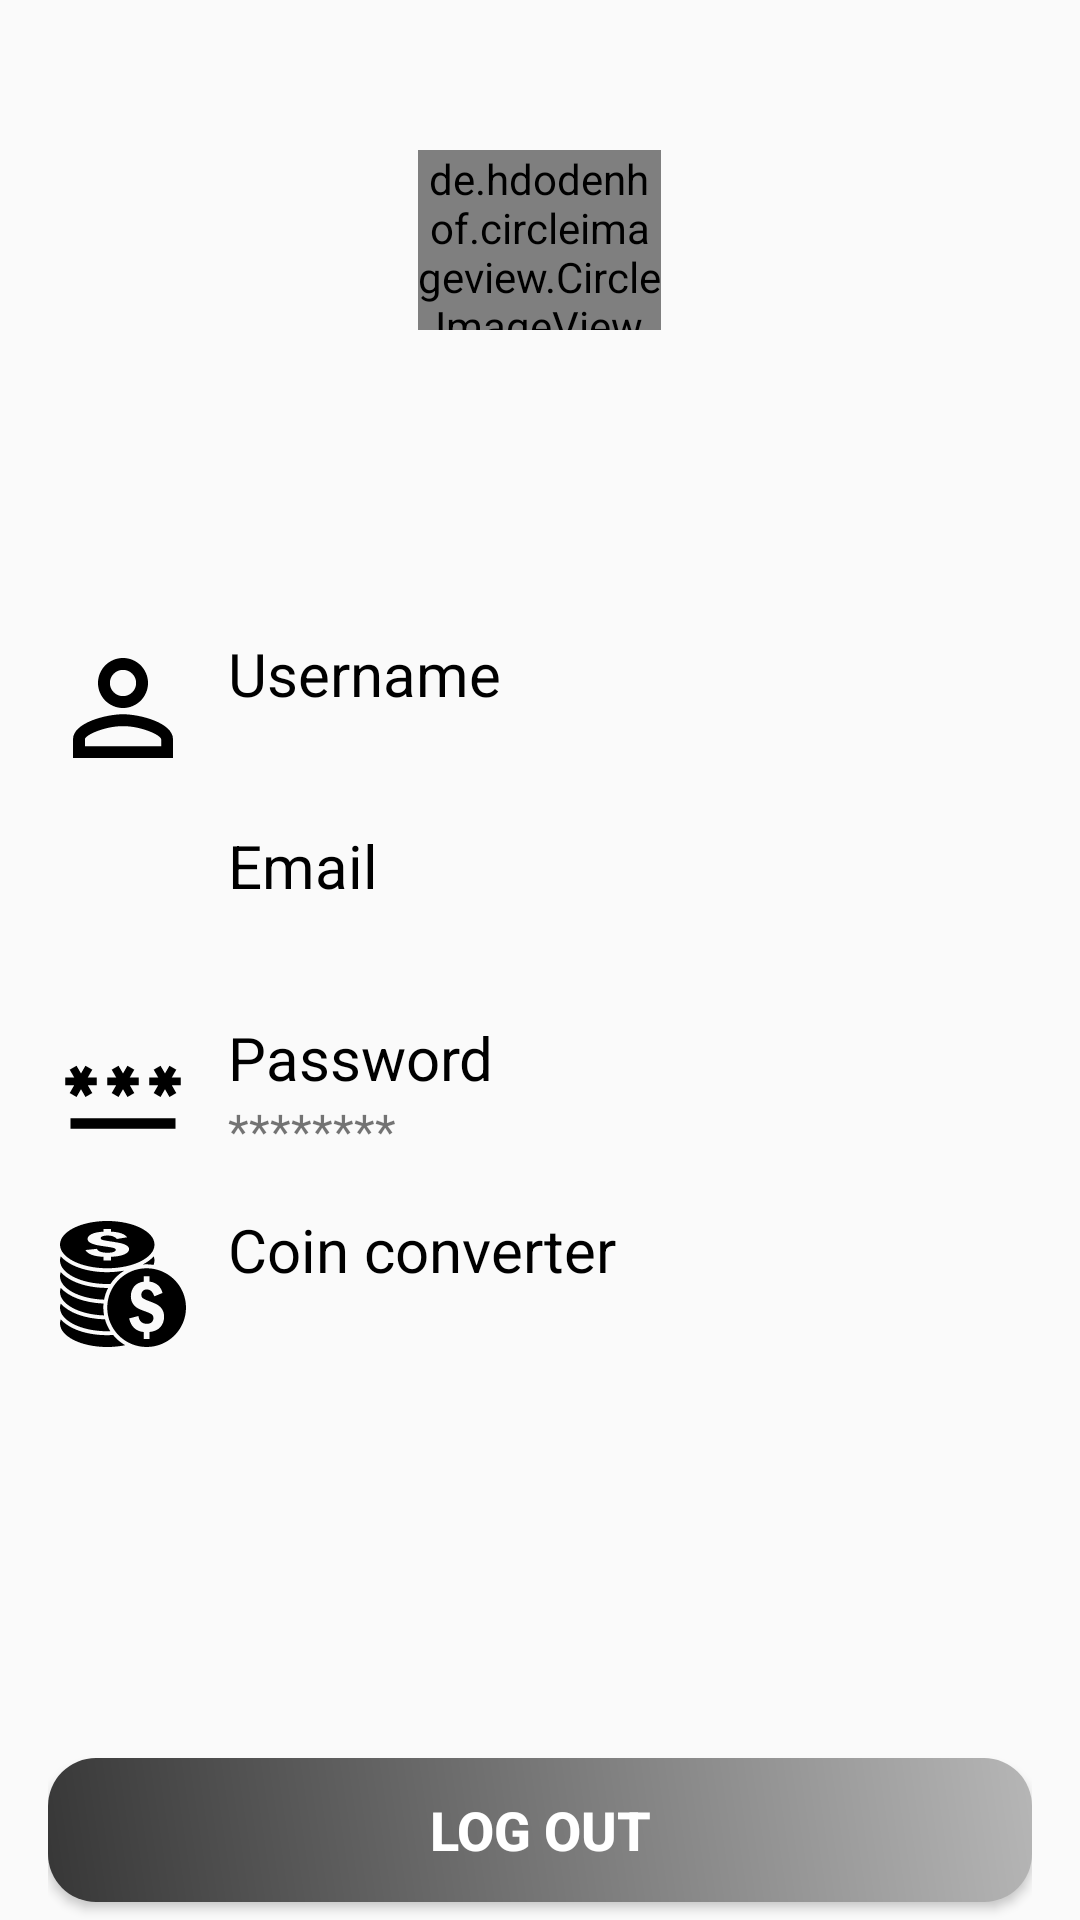

Where icons sit on this 1080 × 1920 app screen, as (left=x1, top=y1, right=x2, bottom=y2):
profile: (left=73, top=658, right=173, bottom=758)
